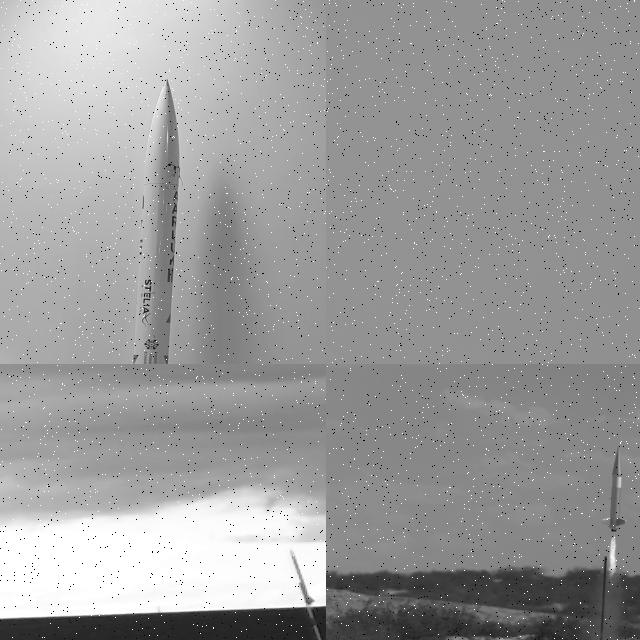Rocket: (132, 78, 180, 364), (601, 445, 628, 532), (289, 550, 316, 604)
